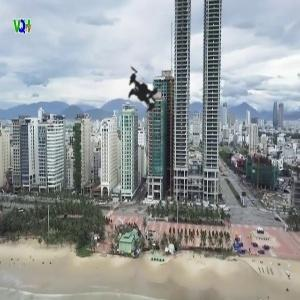drone: (80, 29, 215, 164)
